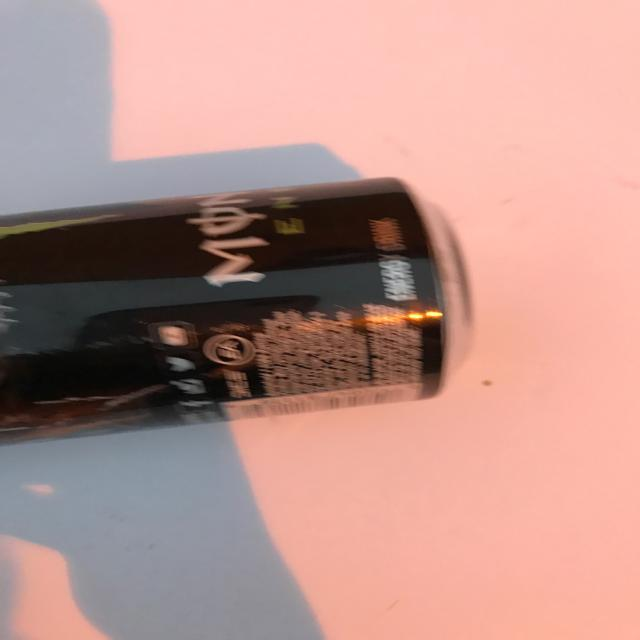metal: (2, 175, 476, 454)
